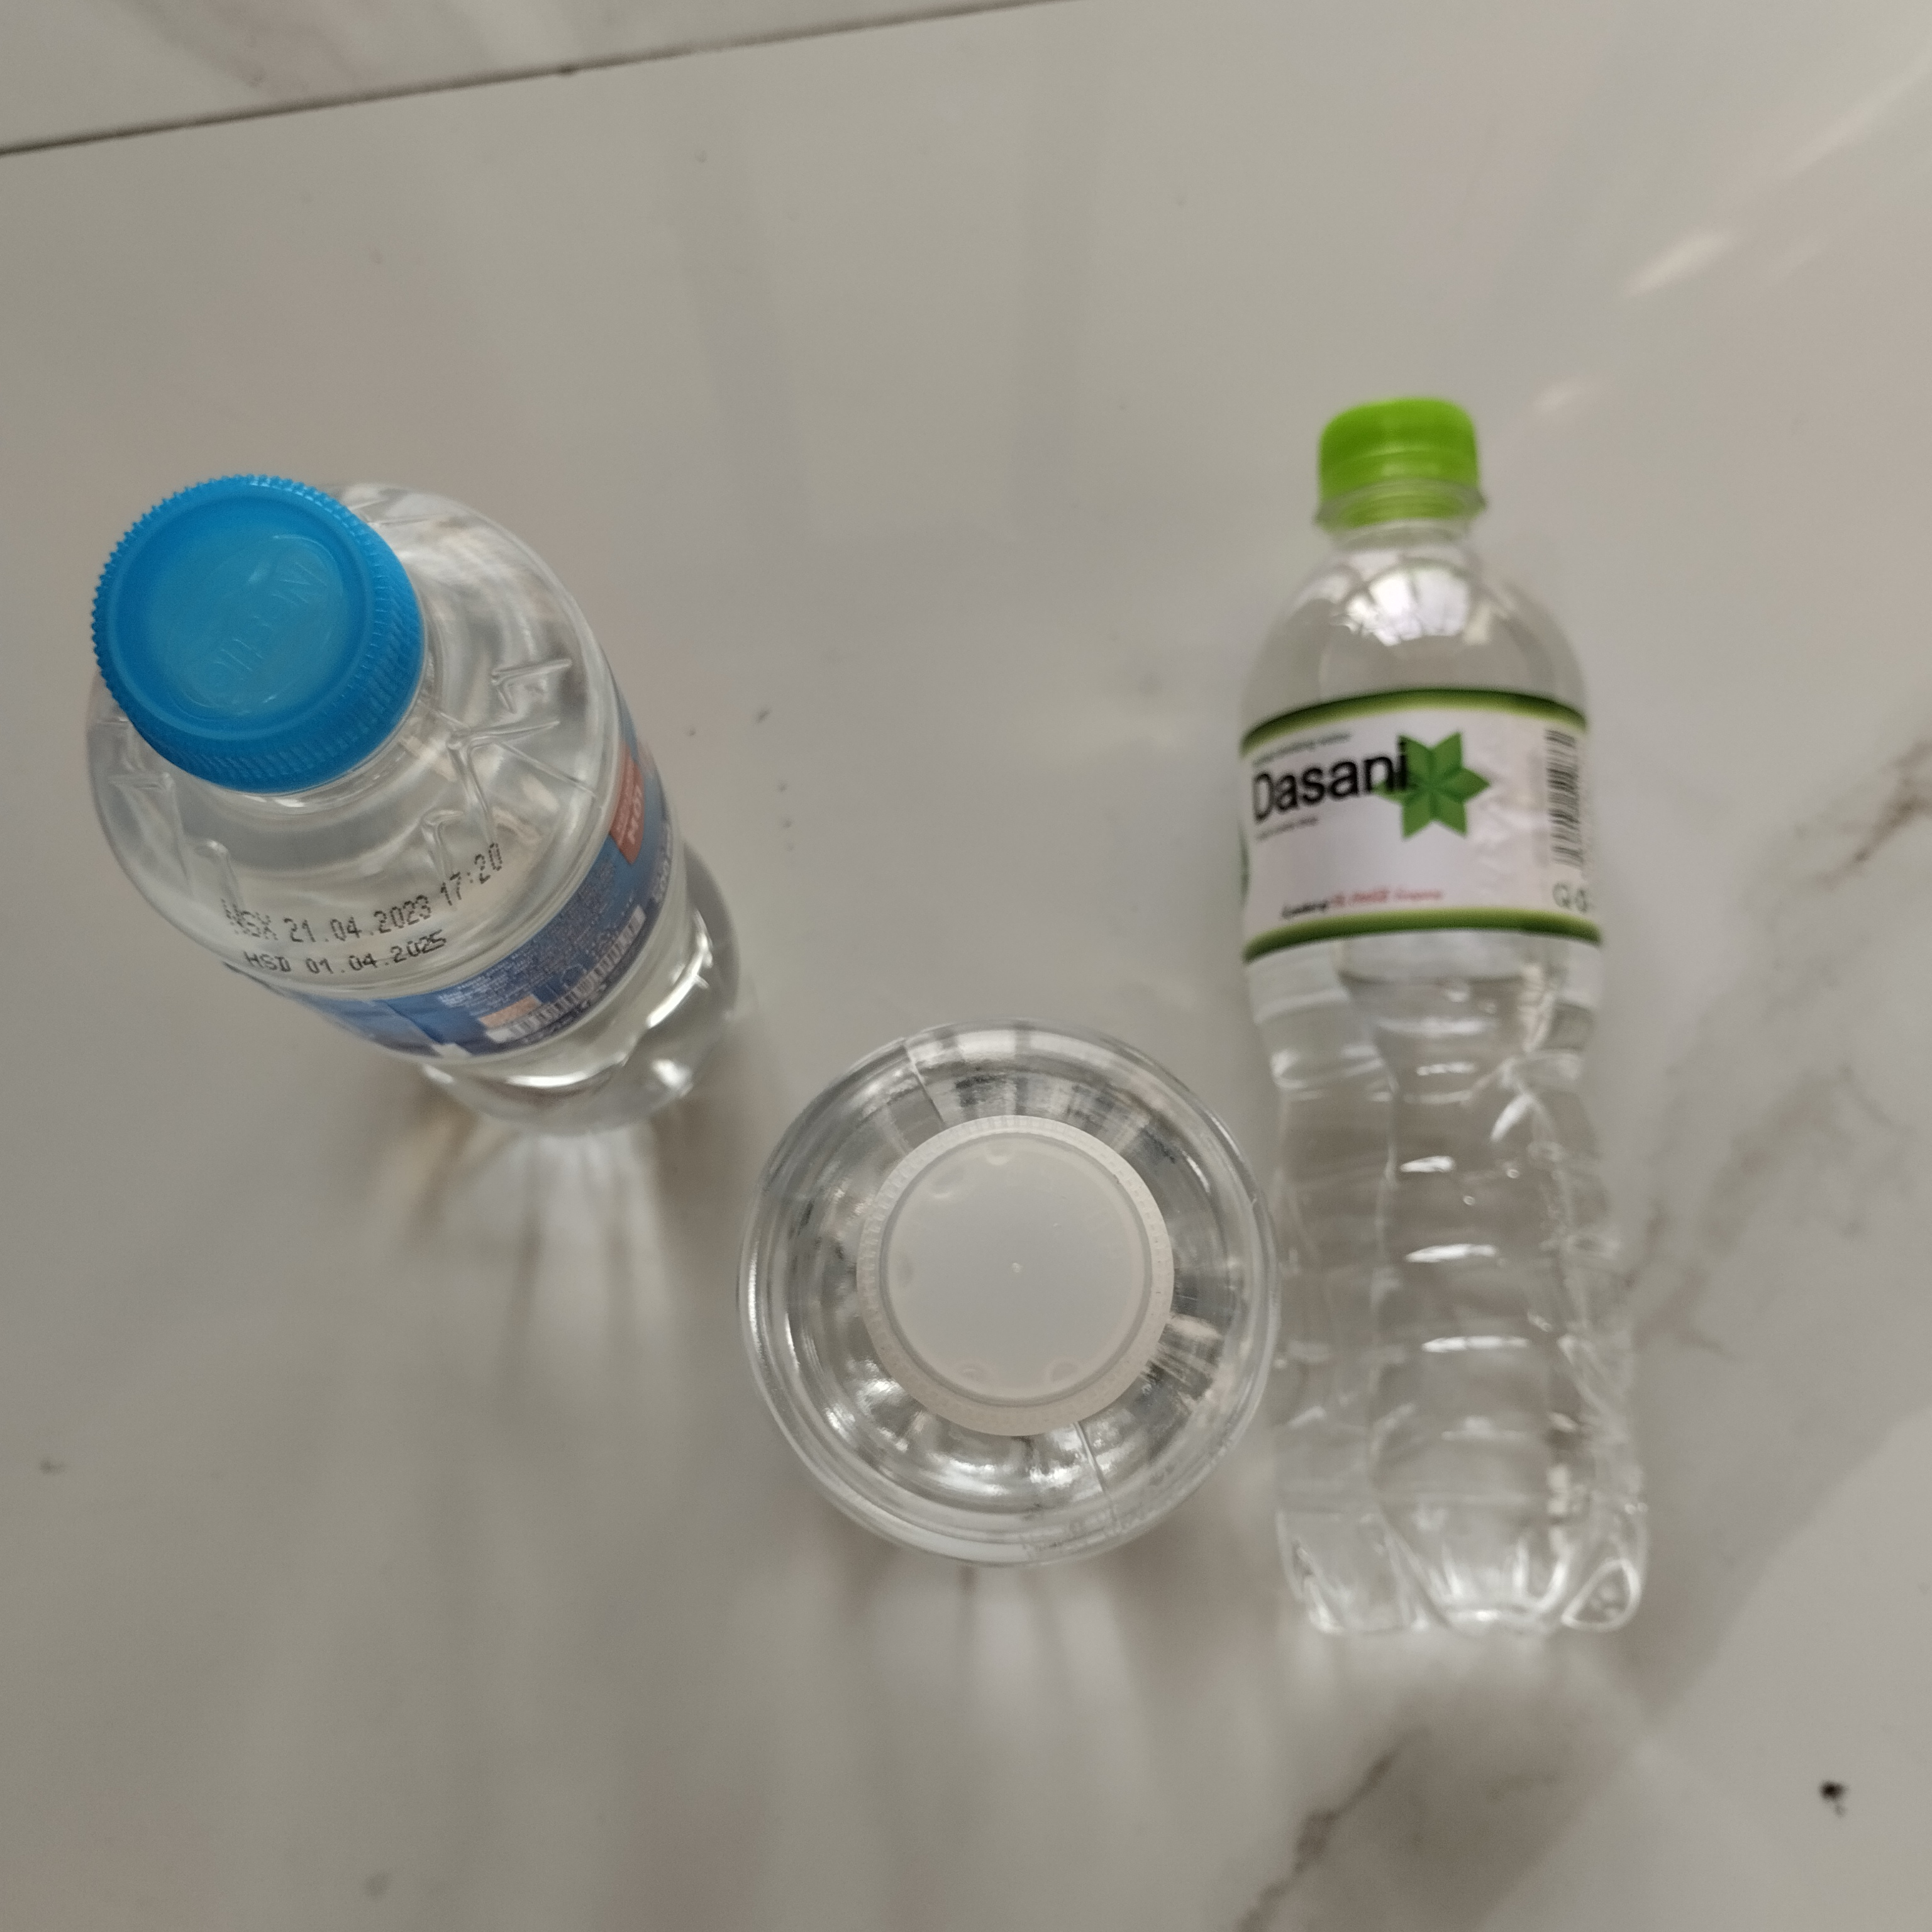Aquafina: (738, 1017, 1274, 1564)
Dasani: (1251, 391, 1688, 1645)
Lavie: (73, 469, 755, 1104)
